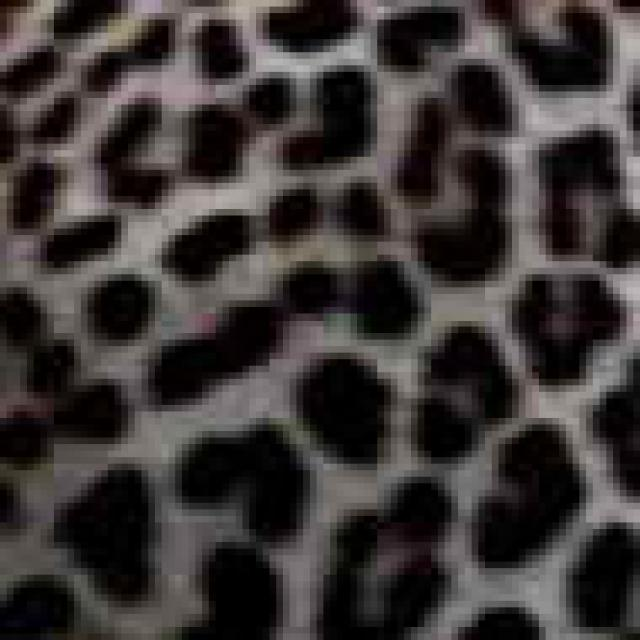Leopard: (0, 0, 627, 627)
